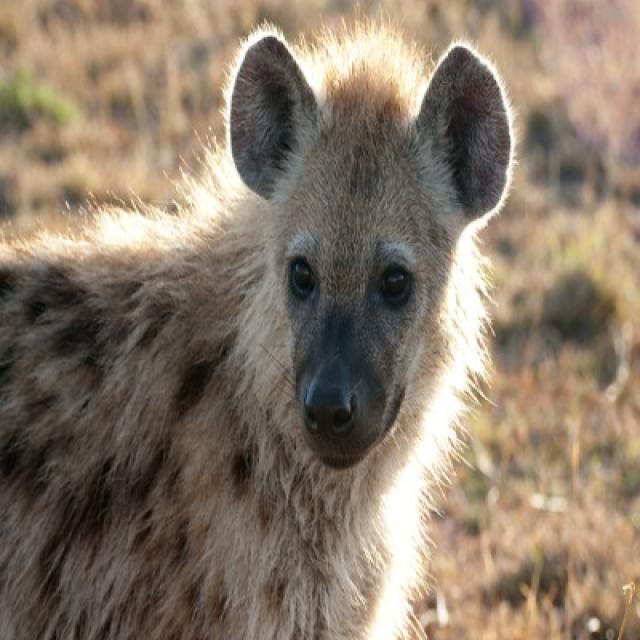hyena: (0, 19, 518, 638)
